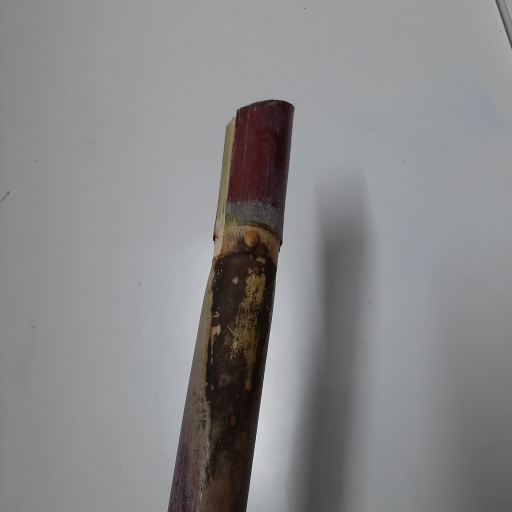Bud: (242, 230, 259, 249)
